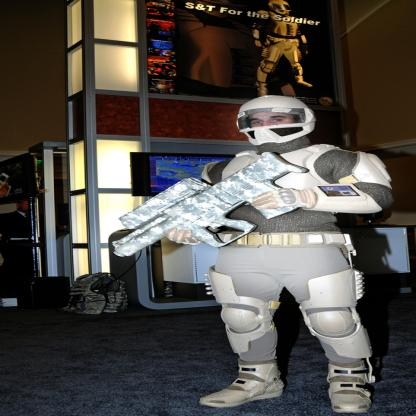Helmet: (238, 92, 320, 147), (268, 0, 291, 19)
